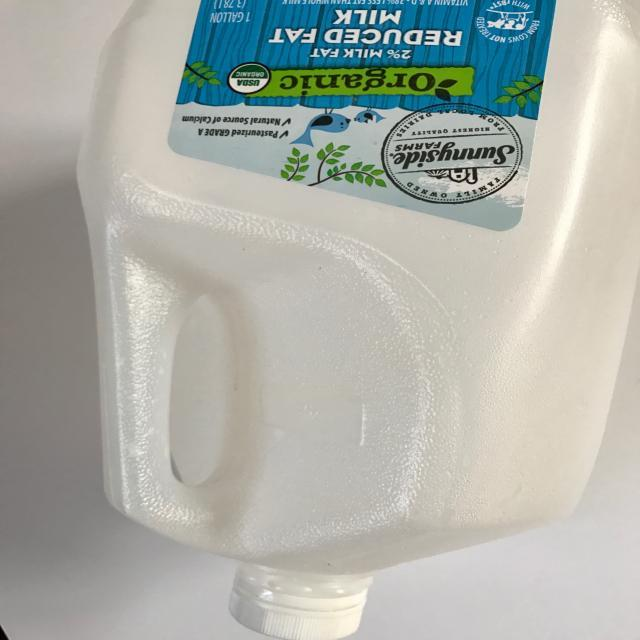plastic: (75, 3, 640, 640)
